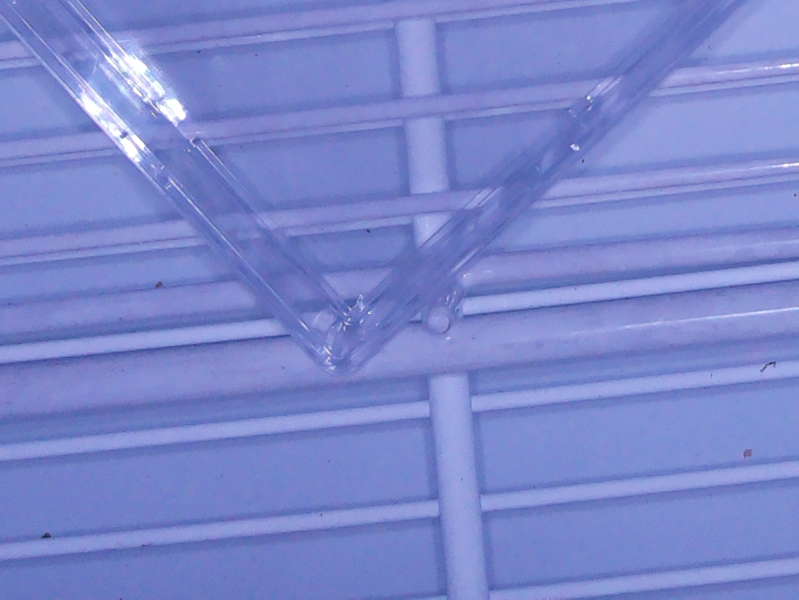plate: (1, 1, 747, 381)
